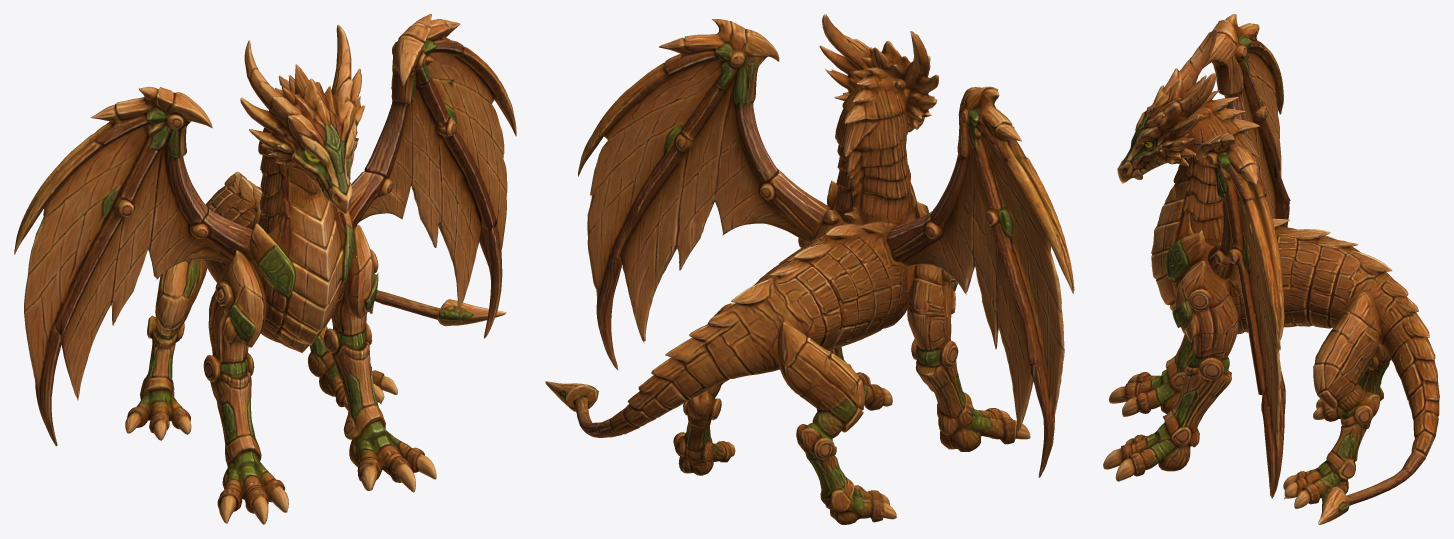
File: base_basic_pbr.glb
3 views of the same model, side by side, from view 1: azimuth 30°, elevation 25°; view 2: azimuth 150°, elevation 25°; view 3: azimuth 270°, elevation 25° (orthographic). The views are drawn at different scales.
Parts seen in each view (by area): view 1: root.2, root.1, root.0, root.3, root.5, root.4, root.7, root.8, root.6; view 2: root.1, root.2, root.0, root.8, root.7, root.3, root.5, root.6, root.4; view 3: root.0, root.1, root.4, root.6, root.2, root.5, root.8, root.3, root.7.
Part boxes in pixels (bbox=[...]): root.2: bbox=[14, 86, 252, 446]; root.1: bbox=[336, 14, 516, 338]; root.0: bbox=[202, 171, 506, 352]; root.3: bbox=[203, 250, 288, 524]; root.5: bbox=[240, 24, 365, 215]; root.4: bbox=[323, 225, 436, 492]; root.7: bbox=[125, 259, 207, 440]; root.8: bbox=[258, 75, 326, 233]; root.6: bbox=[308, 326, 397, 410]; root.1: bbox=[578, 19, 830, 370]; root.2: bbox=[886, 86, 1074, 477]; root.0: bbox=[545, 165, 929, 437]; root.8: bbox=[834, 67, 911, 225]; root.7: bbox=[777, 320, 896, 524]; root.3: bbox=[907, 264, 1030, 451]; root.5: bbox=[819, 14, 938, 132]; root.6: bbox=[673, 303, 735, 475]; root.4: bbox=[798, 238, 892, 410]; root.0: bbox=[1151, 186, 1439, 524]; root.1: bbox=[1196, 133, 1285, 498]; root.4: bbox=[1103, 261, 1238, 481]; root.6: bbox=[1283, 291, 1381, 508]; root.2: bbox=[1203, 14, 1290, 227]; root.5: bbox=[1117, 29, 1216, 183]; root.8: bbox=[1173, 90, 1260, 245]; root.3: bbox=[1109, 333, 1194, 416]; root.7: bbox=[1313, 343, 1390, 421].
Size of the model in its own units: 61.47 by 50 by 38.28.
Materials: 9 (9 with a texture image).
